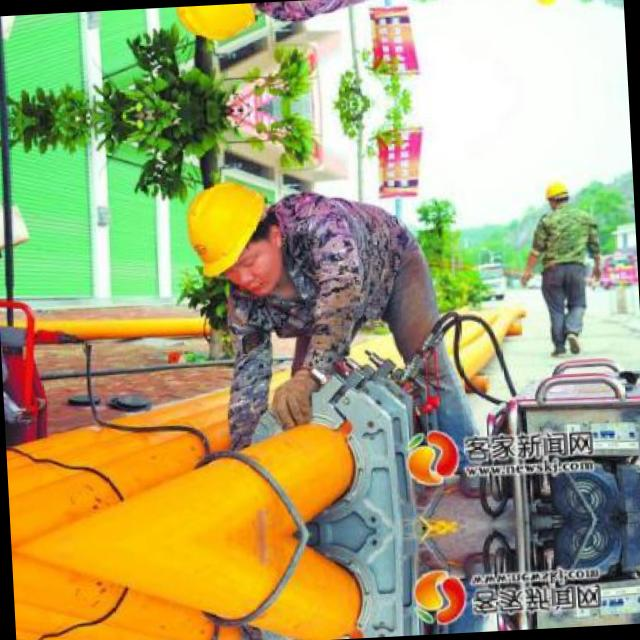helmet: (174, 166, 300, 303), (165, 1, 289, 56), (538, 177, 574, 216), (527, 0, 564, 11)
